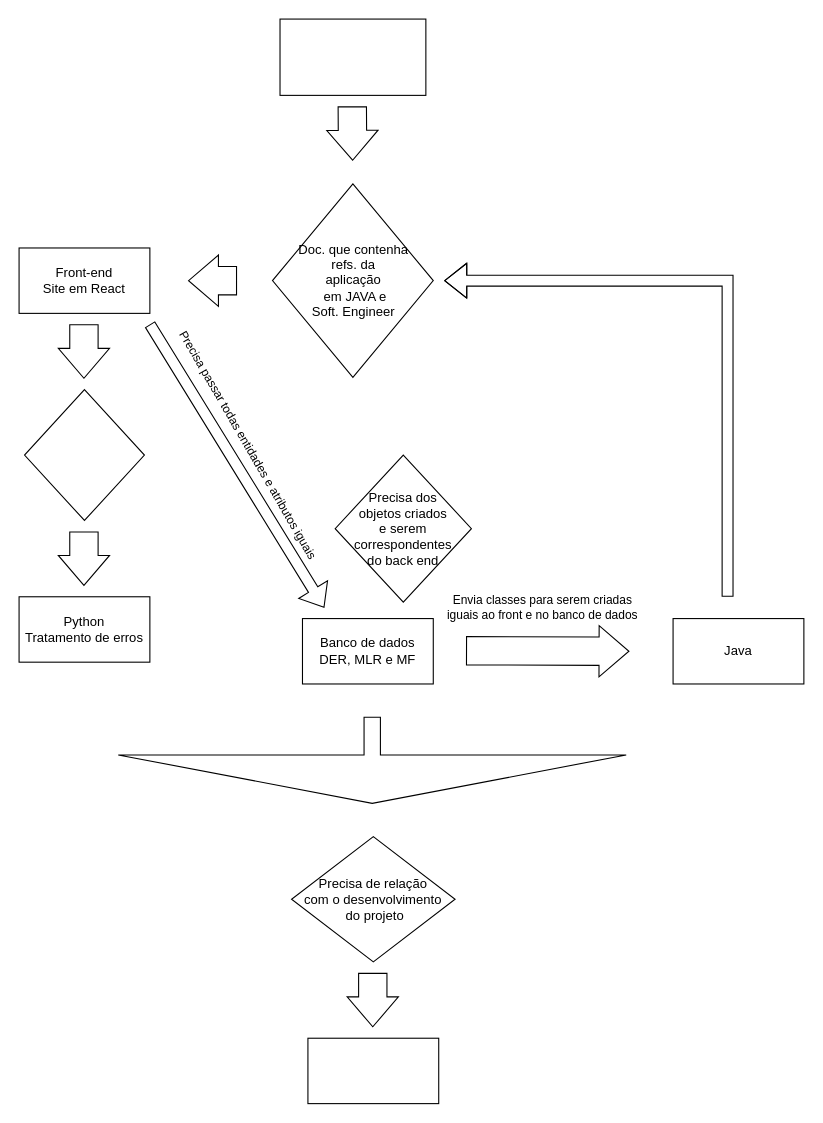
The diagram is 823 pixels wide and 1123 high, and some of its shapes have lost their labels. The shapes that lost their labels are listed below. From the top down, each one's centre as x and y in pixels, then its label:
At point (352, 56): "Software Engineer Doc com diagrama de classes".
At point (83, 454): "Passa os formulários que precisam de validação".
At point (373, 1070): "AI Chatbot Pesquisa e relatório no jupyter".
